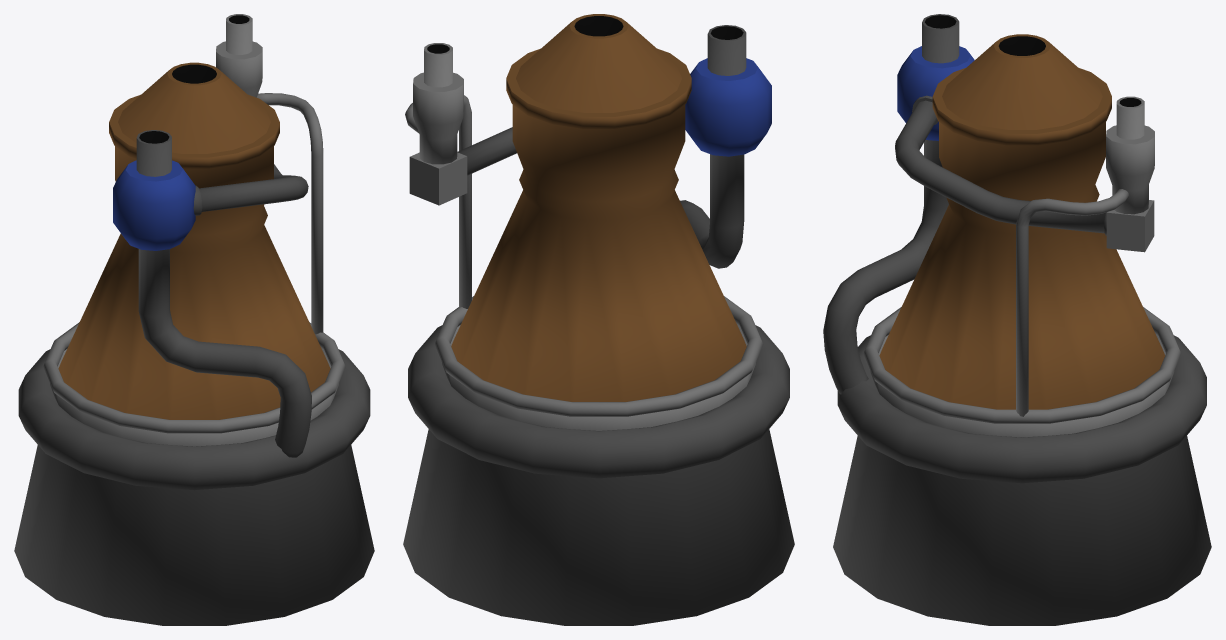
The model's file is engin.fbx.
3 views of the same model, side by side, from view 1: azimuth 30°, elevation 25°; view 2: azimuth 150°, elevation 25°; view 3: azimuth 270°, elevation 25° (orthographic). The views are drawn at different scales.
Visible parts, largest first — view 1: Cylinder; view 2: Cylinder; view 3: Cylinder.
Boxes of the visible parts, x1,y1,x2,y2 form: Cylinder: [14, 14, 374, 625]; Cylinder: [403, 14, 794, 625]; Cylinder: [823, 14, 1211, 625].
Bounding box in the file's own units: 198 × 292 × 205.
